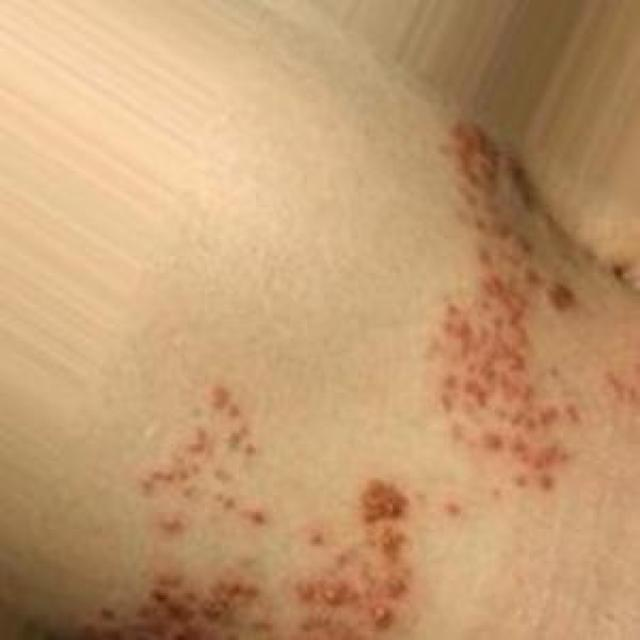Shingles: (36, 379, 414, 640), (422, 103, 585, 492)
